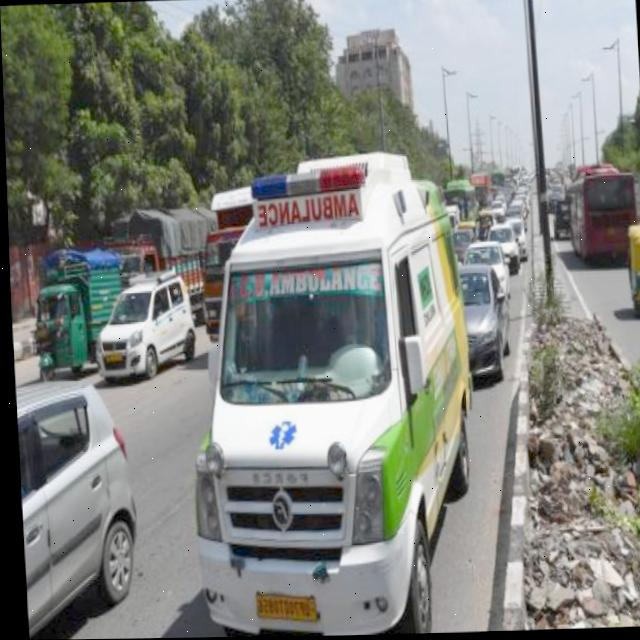emergency: (180, 151, 465, 638)
